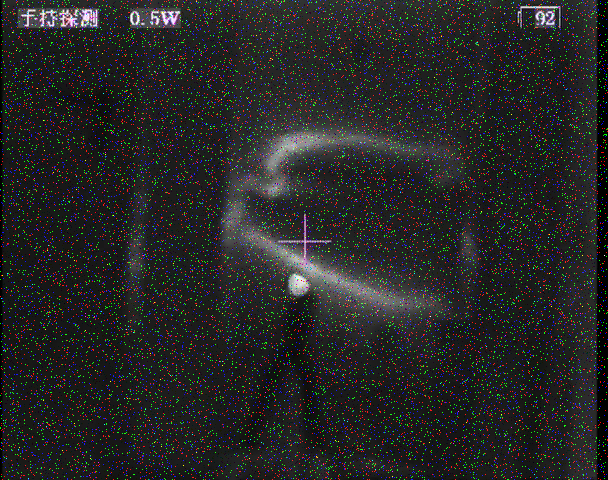my: (286, 271, 312, 297)
